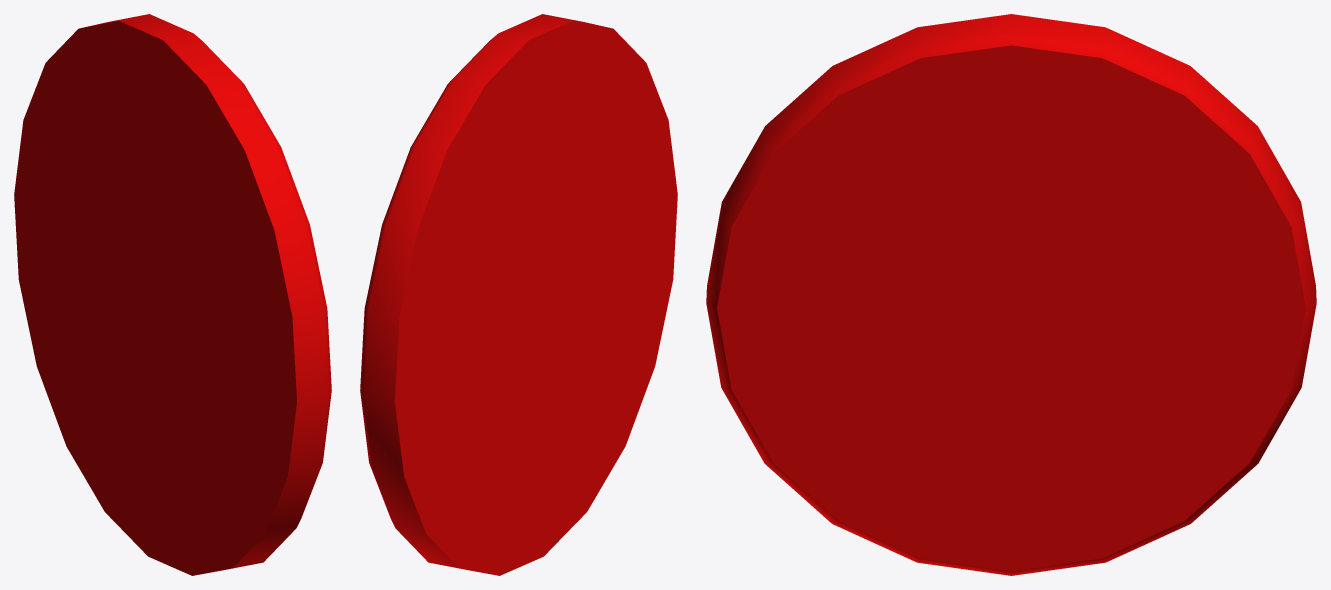
The model's file is Auto_Bouton_Plunger_Bouton.fbx.
The picture shows the model from 3 angles, left to right: view 1: azimuth 30°, elevation 25°; view 2: azimuth 150°, elevation 25°; view 3: azimuth 270°, elevation 25°; orthographic projection. The views are drawn at different scales.
Visible parts, largest first — view 1: Auto_Bouton_Plunger_Bouton; view 2: Auto_Bouton_Plunger_Bouton; view 3: Auto_Bouton_Plunger_Bouton.
Part boxes in pixels (left/top/right/bottom): Auto_Bouton_Plunger_Bouton: left=14, top=14, right=331, bottom=575; Auto_Bouton_Plunger_Bouton: left=360, top=14, right=677, bottom=575; Auto_Bouton_Plunger_Bouton: left=706, top=14, right=1316, bottom=575.
Size of the model in its own units: 0.6452 by 5.87 by 5.86.
